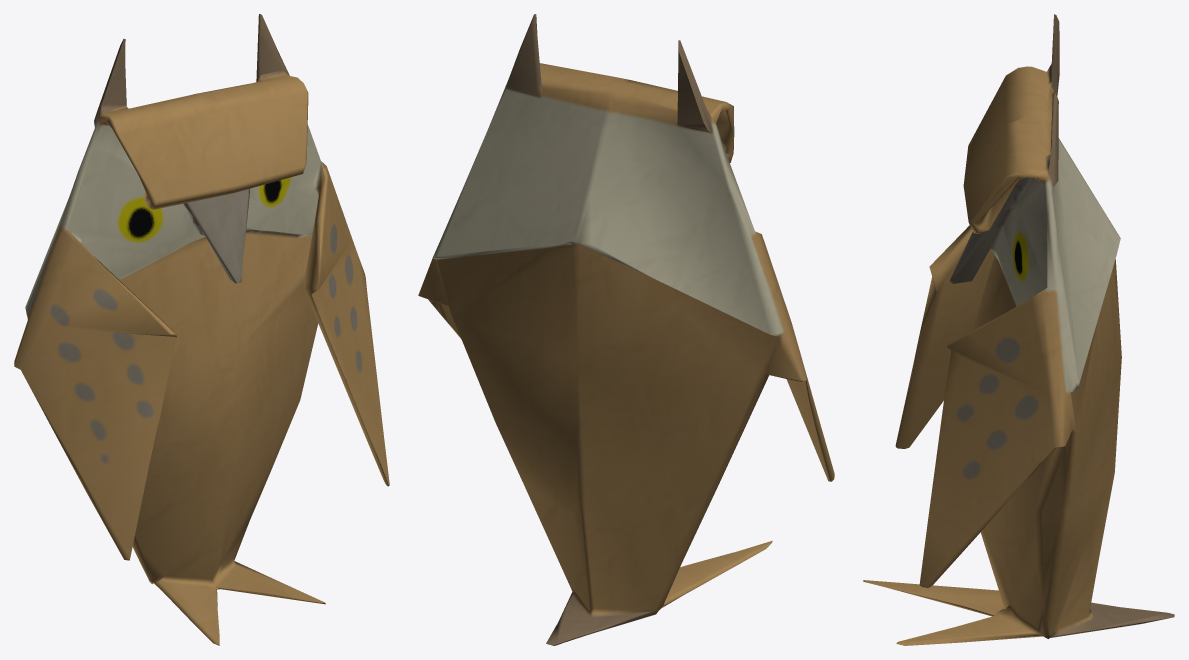
File: owl_FDRemesh_LOD2.fbx
The picture shows the model from 3 angles, left to right: view 1: azimuth 30°, elevation 25°; view 2: azimuth 150°, elevation 25°; view 3: azimuth 270°, elevation 25°; orthographic projection. The views are drawn at different scales.
Parts seen in each view (by area): view 1: Simplygon_Proxy_6828fa41-f24e-4978-90a8-0a7669906d6c; view 2: Simplygon_Proxy_6828fa41-f24e-4978-90a8-0a7669906d6c; view 3: Simplygon_Proxy_6828fa41-f24e-4978-90a8-0a7669906d6c.
Part boxes in pixels (x1=…): Simplygon_Proxy_6828fa41-f24e-4978-90a8-0a7669906d6c: x1=14, y1=14, x2=389, y2=645; Simplygon_Proxy_6828fa41-f24e-4978-90a8-0a7669906d6c: x1=418, y1=14, x2=834, y2=645; Simplygon_Proxy_6828fa41-f24e-4978-90a8-0a7669906d6c: x1=863, y1=14, x2=1174, y2=645.
Bounding box in the file's own units: 16.94 × 24.92 × 12.22.
Materials: 1 (1 with a texture image).
